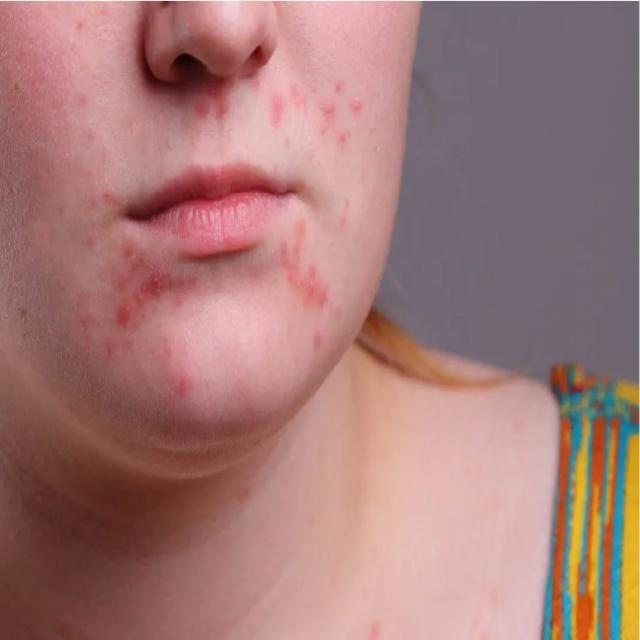Acne: (260, 74, 368, 154), (281, 211, 339, 349), (106, 259, 183, 338), (70, 82, 100, 148), (186, 90, 234, 122), (98, 179, 126, 219), (148, 0, 174, 29), (174, 368, 199, 396), (70, 11, 92, 39), (80, 308, 96, 346)
